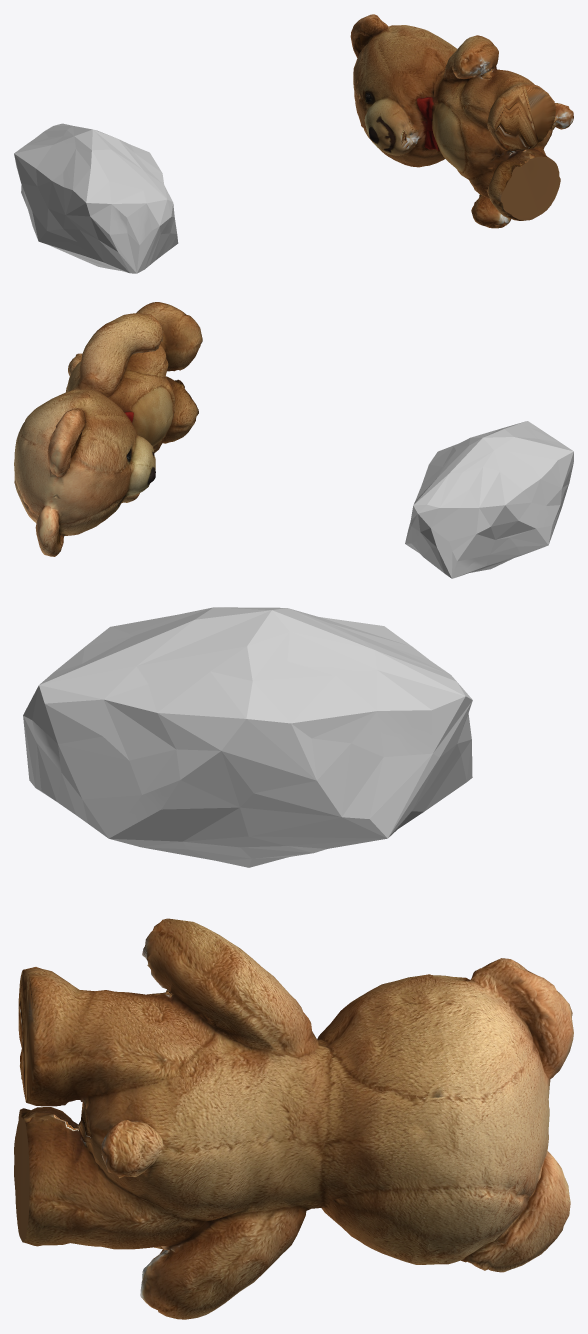
Rendered from newBear.dae.
3 renders of one model, top to bottom at view 1: azimuth 30°, elevation 25°; view 2: azimuth 150°, elevation 25°; view 3: azimuth 270°, elevation 25°, orthographic. The views are drawn at different scales.
Parts seen in each view (by area): view 1: TeddyBear, pPlatonic1; view 2: TeddyBear, pPlatonic1; view 3: TeddyBear, pPlatonic1.
Part boxes in pixels (x1,y1,x2,y2): TeddyBear: (350,14,573,228); pPlatonic1: (14,123,178,273); TeddyBear: (14,302,202,556); pPlatonic1: (405,421,573,578); TeddyBear: (14,918,573,1319); pPlatonic1: (23,607,472,867).
Size of the model in its own units: 0.9258 by 0.4555 by 0.3334.
